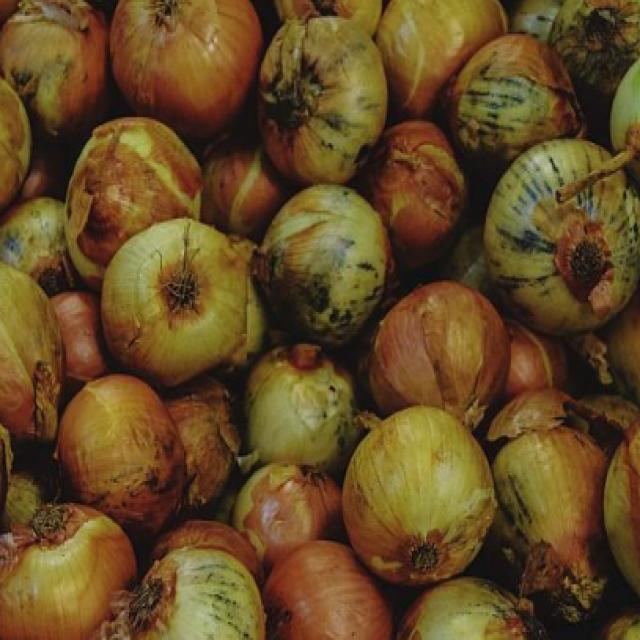rotten: (498, 180, 564, 264), (288, 264, 350, 324), (332, 121, 368, 169)
